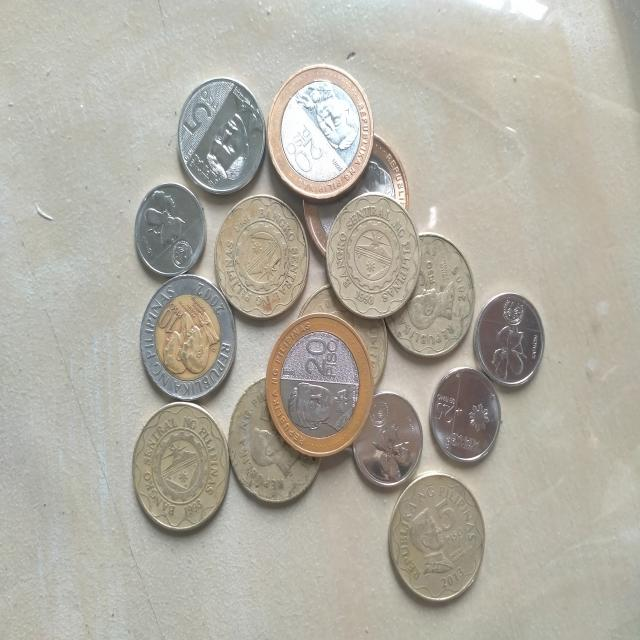10_Old_Front: (154, 298, 186, 338)
20_New_Front: (304, 335, 340, 379)
25Cent_New_Back: (366, 421, 412, 484), (144, 189, 184, 247), (490, 322, 530, 379)
25Cent_New_Front: (433, 391, 461, 425)
5_New_Front: (180, 86, 220, 140)
5_Old_Back: (133, 406, 232, 532), (327, 194, 417, 320), (226, 208, 302, 304)
5_Old_Front: (432, 492, 472, 548)
